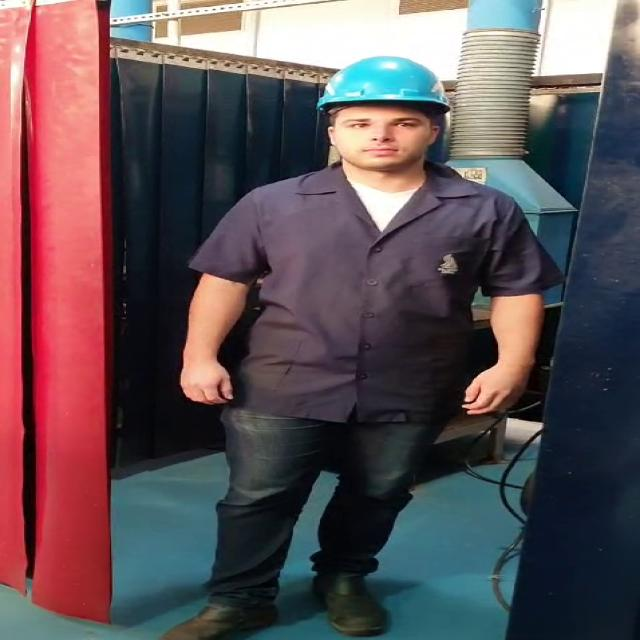sem_oculos: (322, 108, 442, 142)
